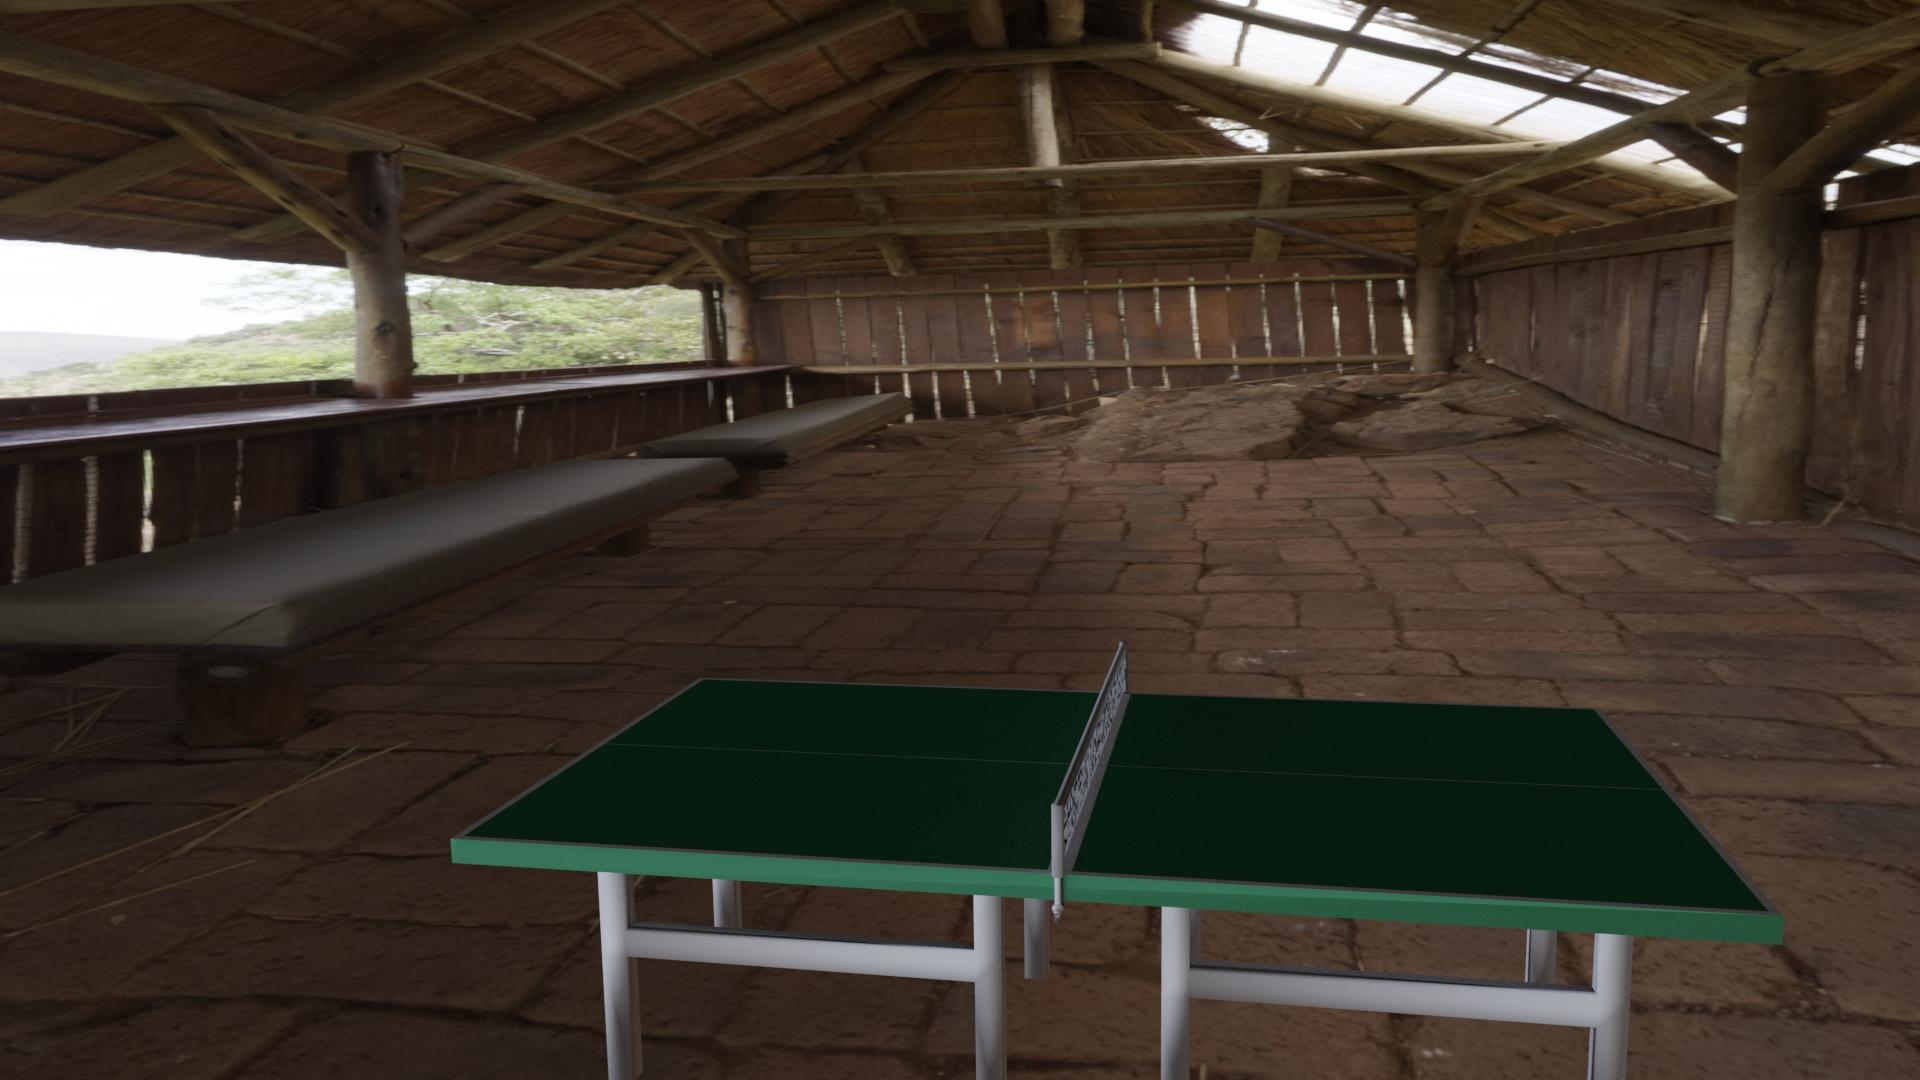table: (463, 679, 1768, 911)
